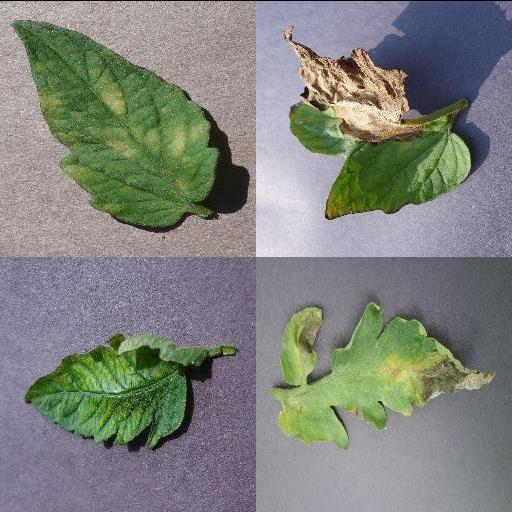Late Blight: (285, 24, 473, 222), (277, 300, 495, 448)
Leaf Mold: (12, 20, 220, 225)
Mosaic Virus: (23, 330, 189, 452)
